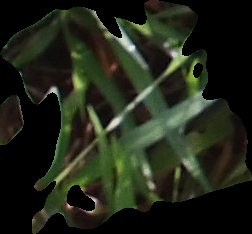grass: (1, 1, 250, 232)
